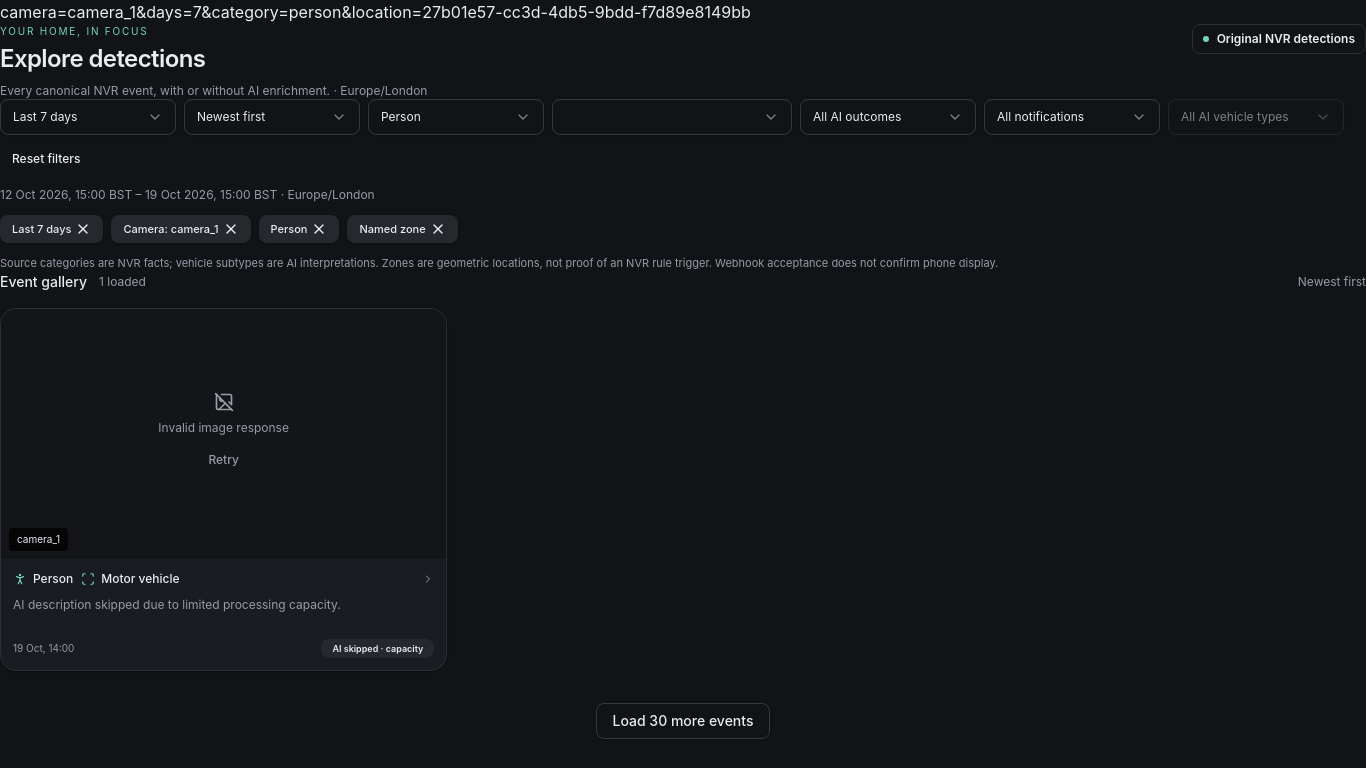
Scenario: keeps skipped events visible and retains gallery filters and cursor pages while opening details
Check: the text "AI skipped · capacity" is shown, box [321,639,434,658]
Click the button "Load 30 more events". click: point(683, 722)
box: [596,704,770,740]
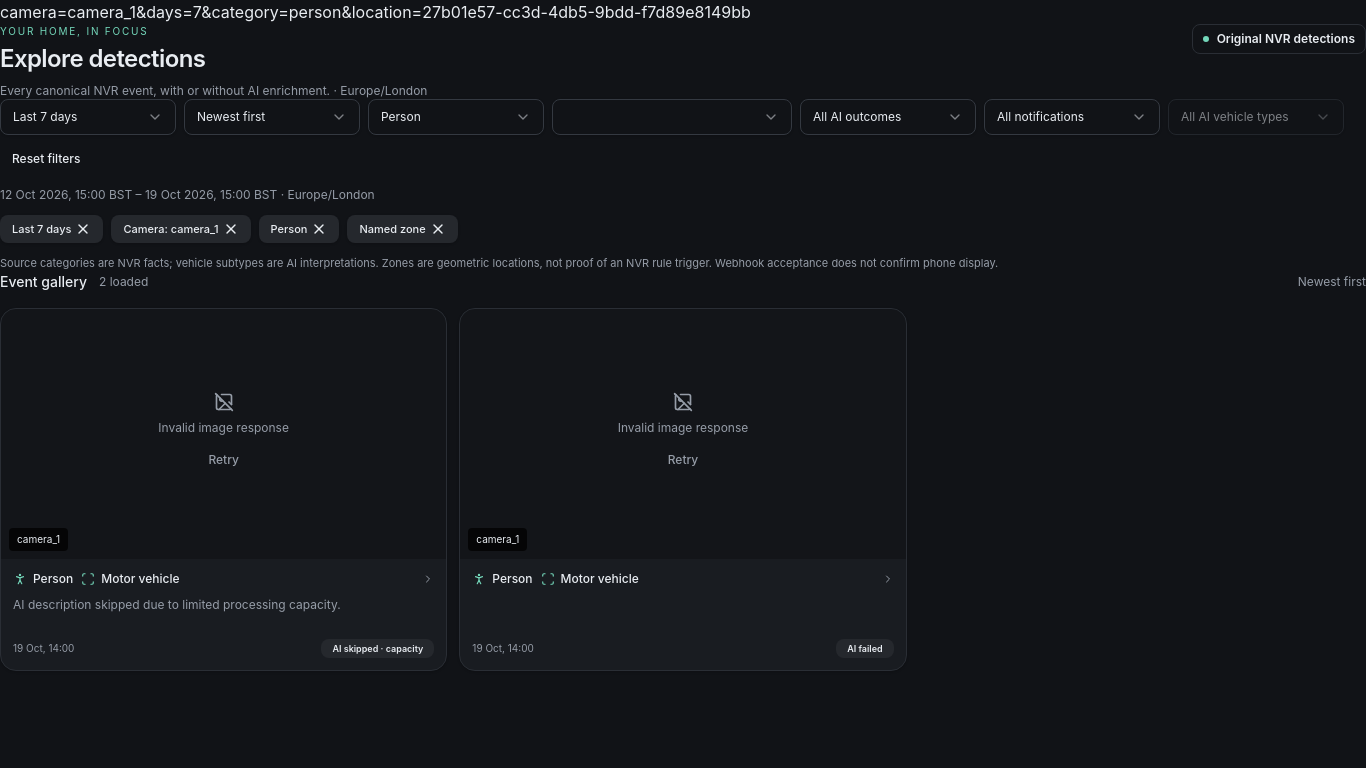
Check: the text "AI failed" is shown, box [836,639,894,658]
Click the button with aria-label "View event". click: point(224, 615)
box: [13,571,434,658]
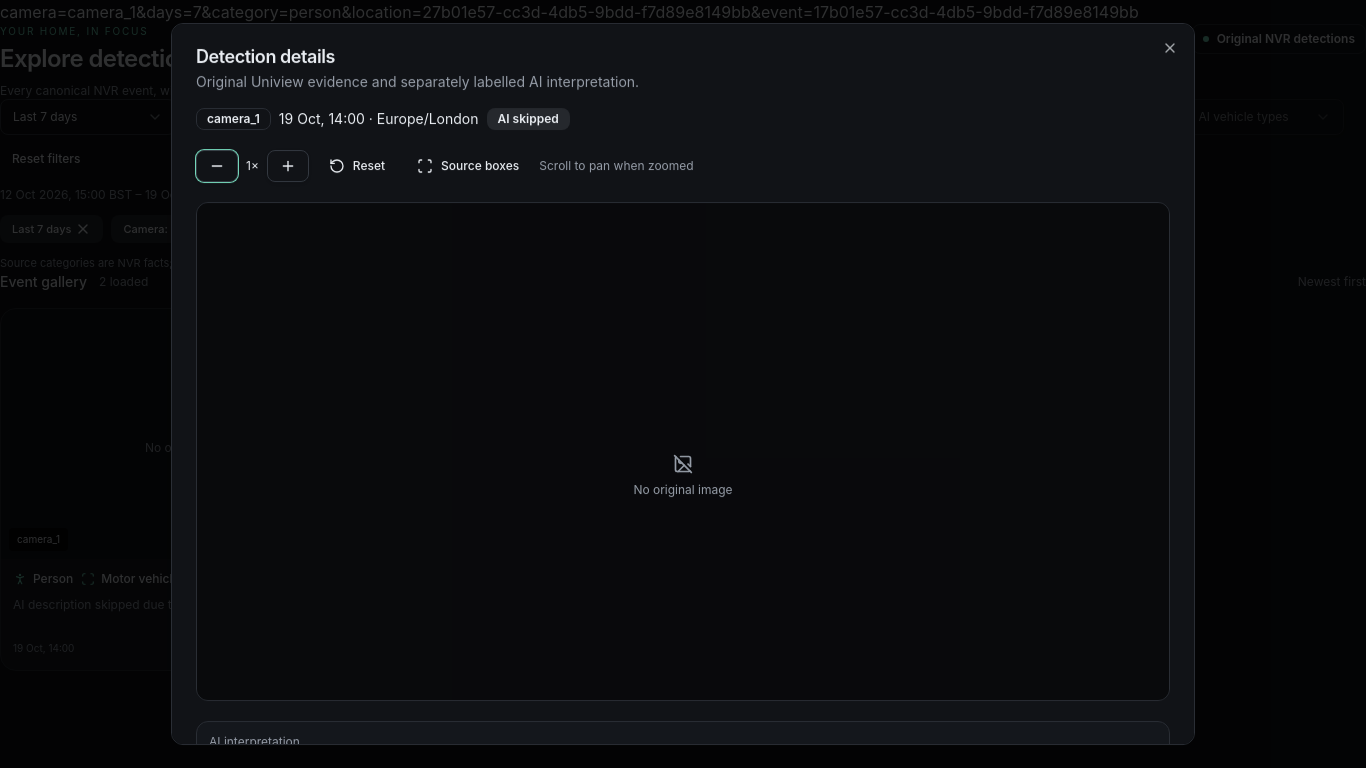
Check: the dialog is shown
Check: the heading "Detection details" is shown, box [196,46,335,67]
Click the button named "Close". click: point(1170, 48)
box: [1162,40,1178,56]
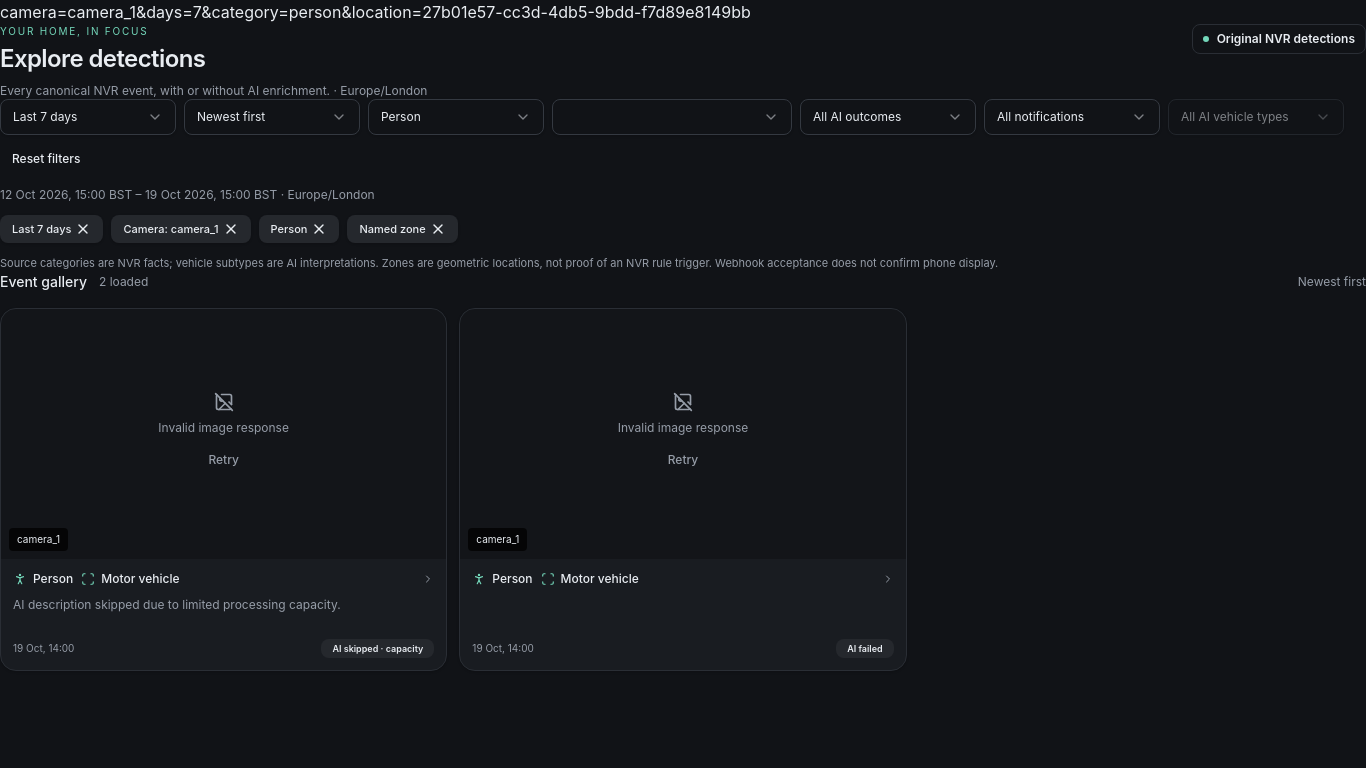
Check: the text "AI failed" is shown, box [836,639,894,658]
Check: the dialog is gone
